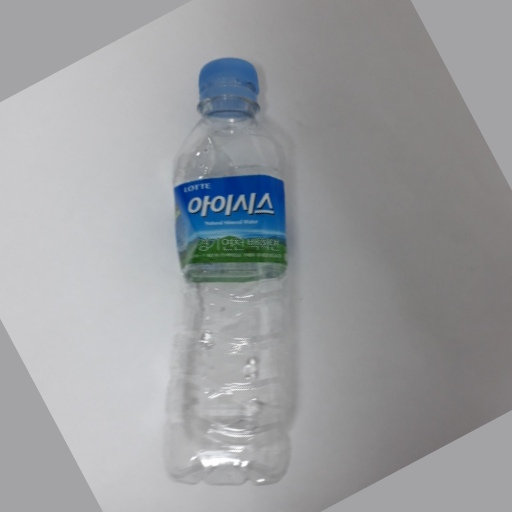Plastic_0: (155, 52, 301, 497)
